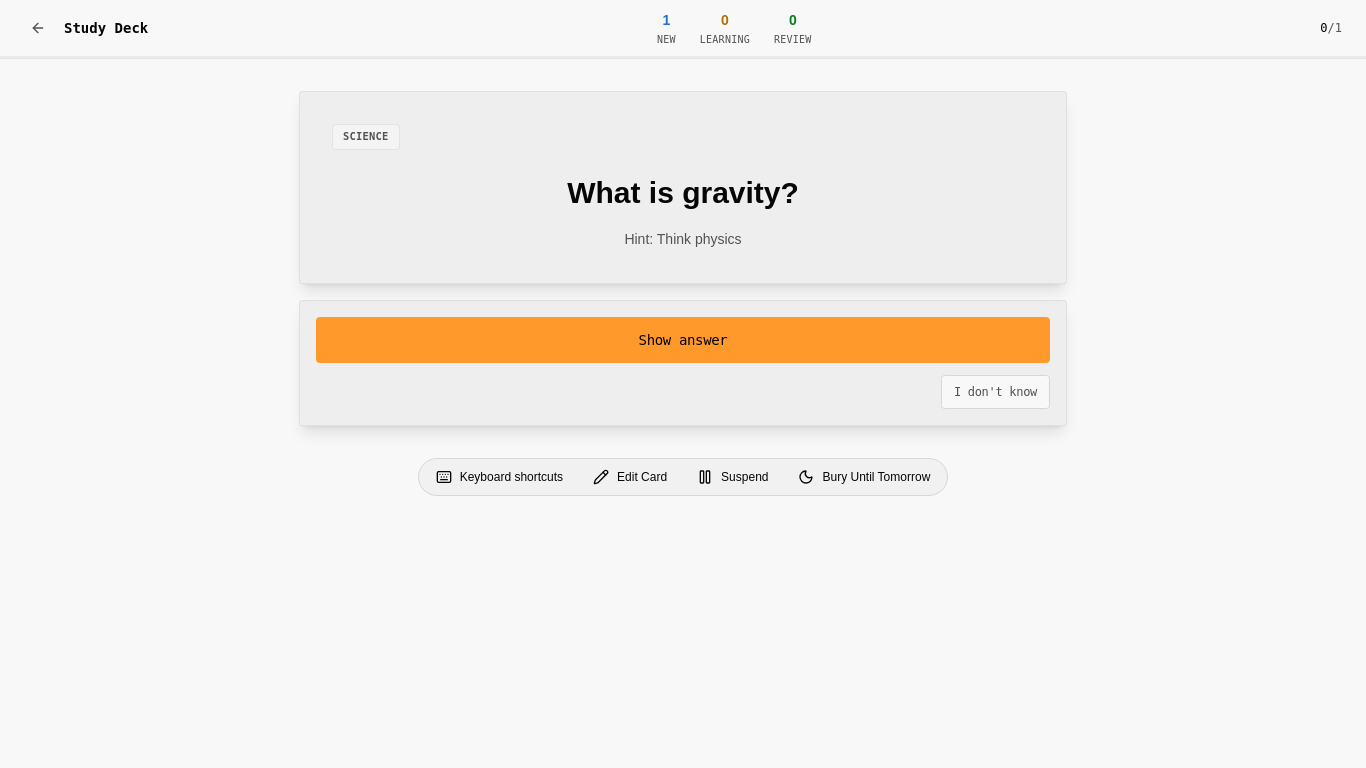
StudyScreen › opens keyboard shortcut help from the bottom action bar
Expected: the heading "What is gravity?" is shown, top-left (567, 174), bottom-right (799, 211)
Click the button "Keyboard shortcuts" at [499, 477], box top-left (423, 463), bottom-right (576, 491)
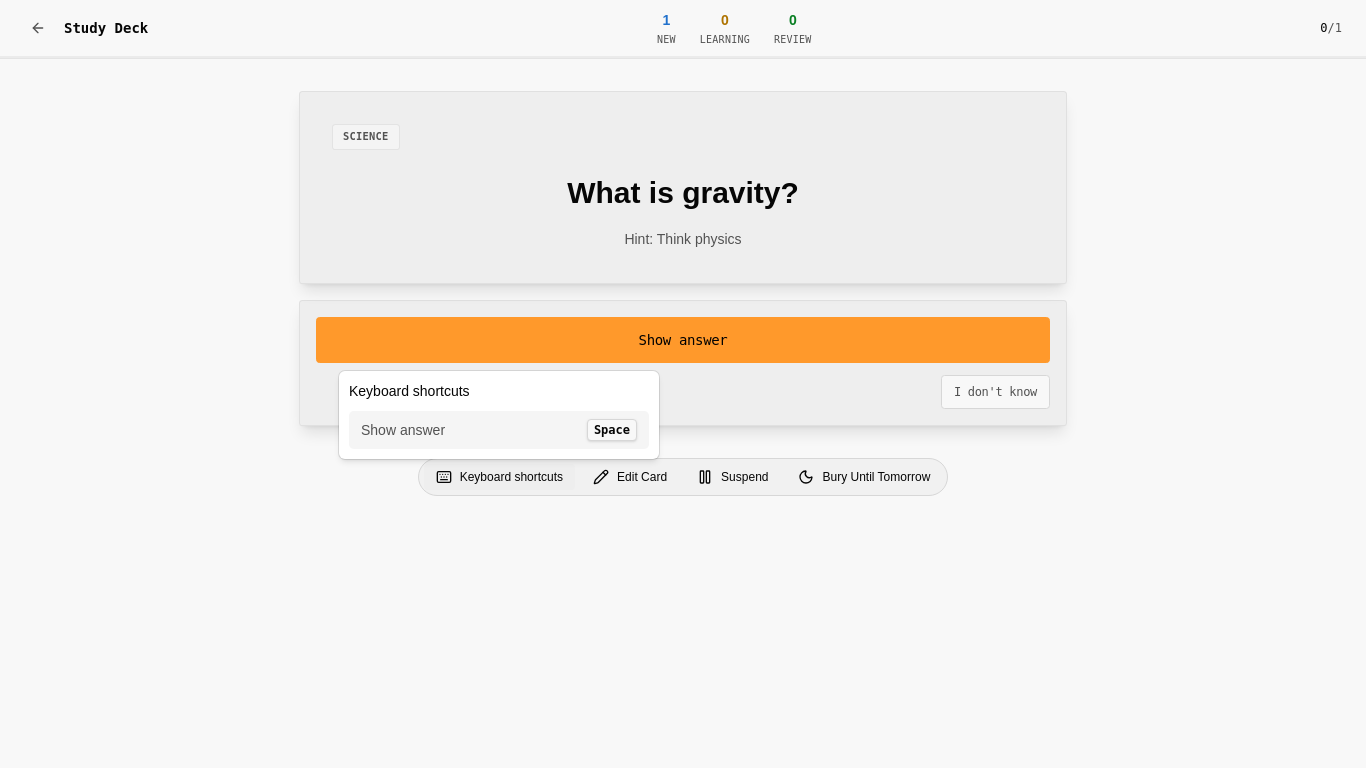
Expected: the text "Show answer" is shown, top-left (361, 420), bottom-right (445, 440)
Expected: the text "Space" is shown, top-left (587, 419), bottom-right (637, 441)
